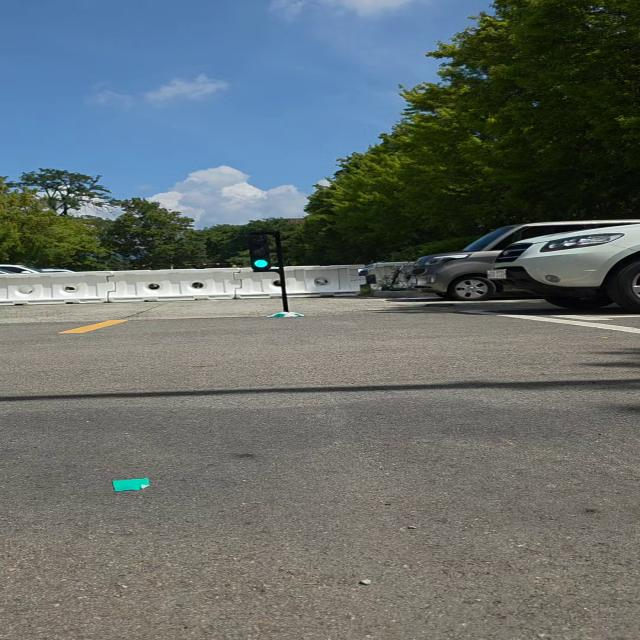green: (248, 230, 282, 272)
